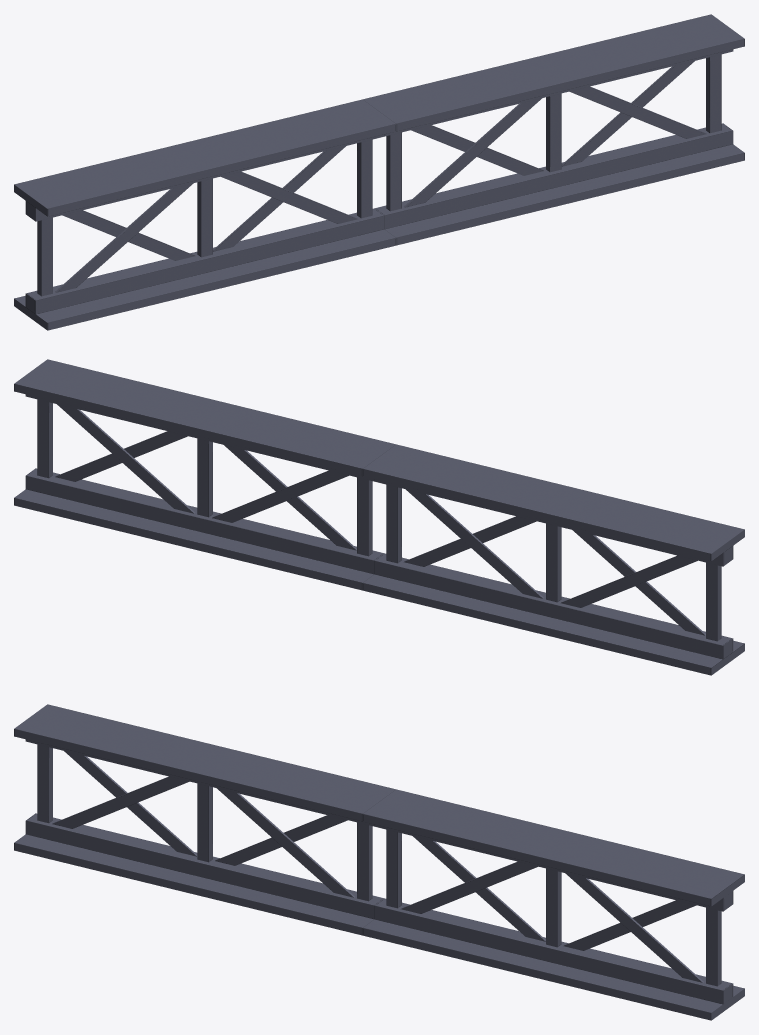
Rendered from Meta_Beam_03.FBX.
The picture shows the model from 3 angles, top to bottom: view 1: azimuth 30°, elevation 25°; view 2: azimuth 150°, elevation 25°; view 3: azimuth 330°, elevation 25°; orthographic projection.
Parts seen in each view (by area): view 1: Meta_Beam_03; view 2: Meta_Beam_03; view 3: Meta_Beam_03.
Part boxes in pixels (x1,y1,x2,y2): Meta_Beam_03: (14, 14, 744, 330); Meta_Beam_03: (14, 359, 744, 675); Meta_Beam_03: (14, 704, 744, 1020).
Size of the model in its own units: 6 by 1 by 0.5.
Materials: 1 (1 with a texture image).
